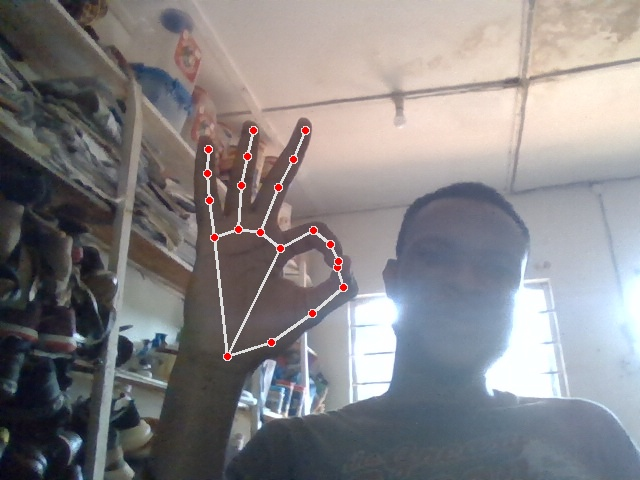okay: (183, 117, 359, 369)
